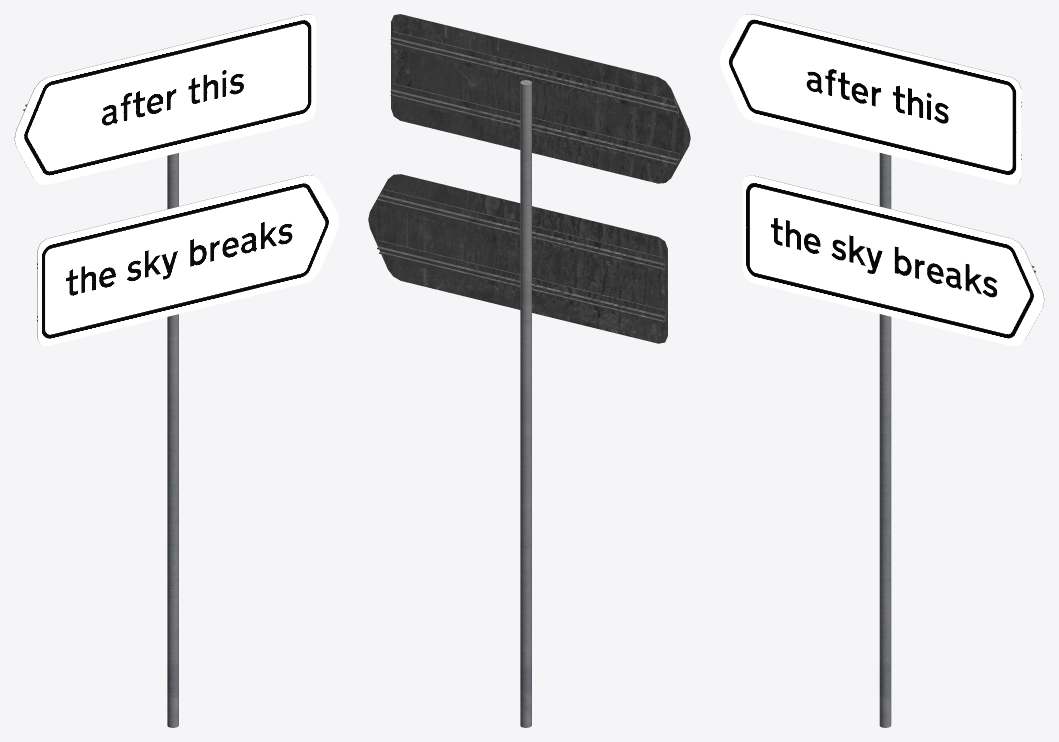
Rendered from sky-breaks.gltf.
The picture shows the model from 3 angles, left to right: view 1: azimuth 30°, elevation 25°; view 2: azimuth 150°, elevation 25°; view 3: azimuth 330°, elevation 25°; orthographic projection.
Parts seen in each view (by area): view 1: Sign_M_1.5_.015, Sign_M_1.5_.017, PoleA_50.8_2800mm_A_.025; view 2: Sign_M_1.5_.015, Sign_M_1.5_.017, PoleA_50.8_2800mm_A_.025; view 3: Sign_M_1.5_.017, Sign_M_1.5_.015, PoleA_50.8_2800mm_A_.025.
Part boxes in pixels (x1,y1,x2,y2): Sign_M_1.5_.015: [14, 14, 316, 184]; Sign_M_1.5_.017: [37, 175, 339, 346]; PoleA_50.8_2800mm_A_.025: [167, 153, 178, 727]; Sign_M_1.5_.015: [390, 14, 690, 183]; Sign_M_1.5_.017: [368, 174, 667, 343]; PoleA_50.8_2800mm_A_.025: [520, 80, 531, 727]; Sign_M_1.5_.017: [742, 175, 1044, 345]; Sign_M_1.5_.015: [719, 14, 1021, 184]; PoleA_50.8_2800mm_A_.025: [879, 153, 891, 727].
Size of the model in its own units: 1.1 by 2.21 by 0.0397.
8 materials, 8 textured.
